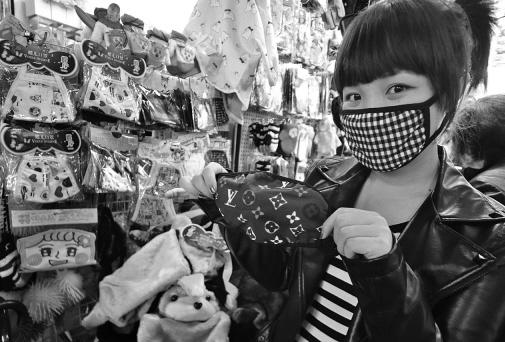OK: (341, 78, 436, 168)
